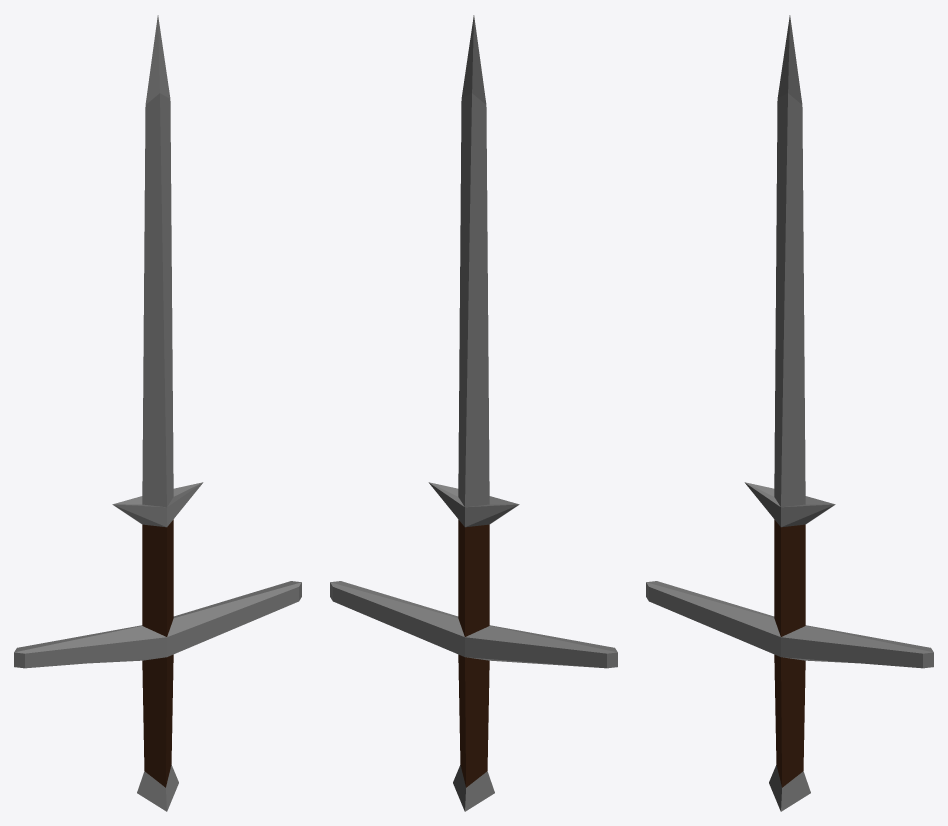
File: zweihander.fbx
The picture shows the model from 3 angles, left to right: view 1: azimuth 30°, elevation 25°; view 2: azimuth 150°, elevation 25°; view 3: azimuth 330°, elevation 25°; orthographic projection.
Parts seen in each view (by area): view 1: Cube.001; view 2: Cube.001; view 3: Cube.001.
Boxes of the visible parts, left/top/right/bottom form: Cube.001: left=14, top=15, right=301, bottom=811; Cube.001: left=330, top=15, right=617, bottom=811; Cube.001: left=646, top=15, right=933, bottom=811.
Size of the model in its own units: 195 by 511 by 21.21.
